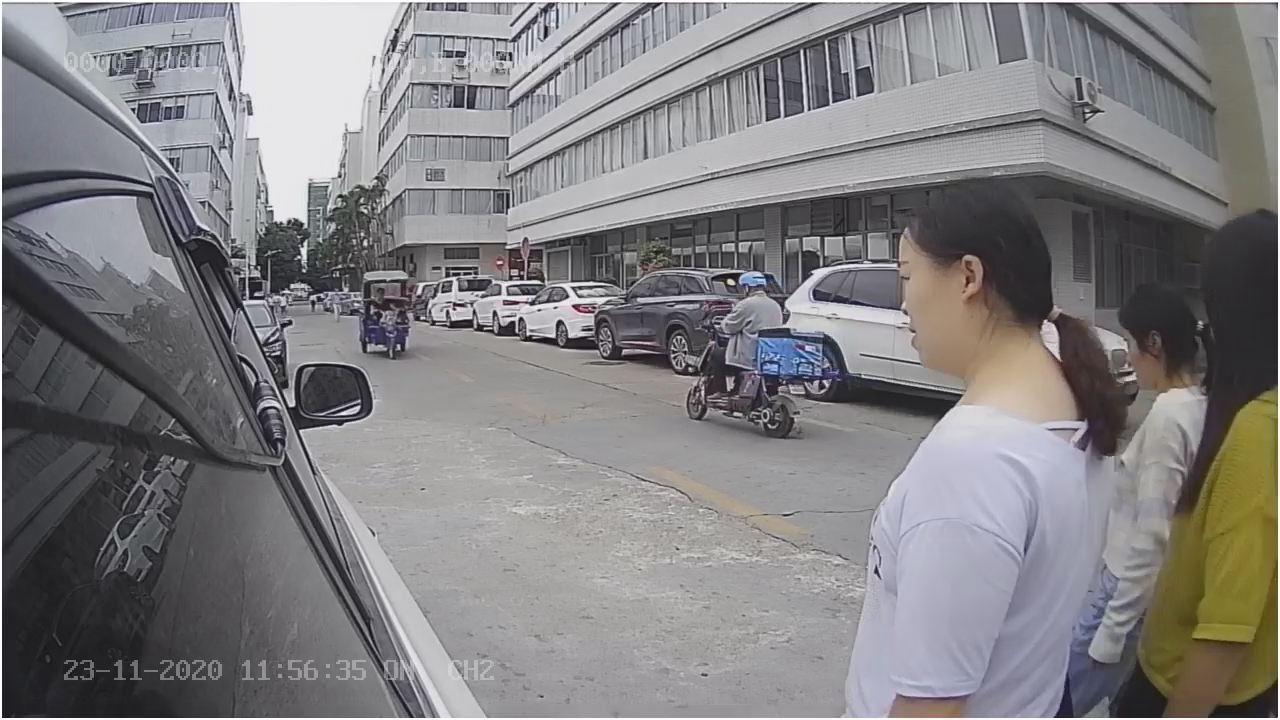person: (836, 168, 1110, 715)
